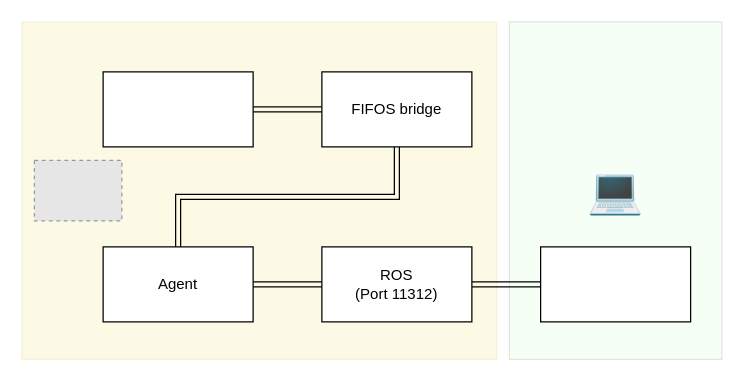
Some shapes in this 744 by 381 pixel diagram are drawn without their labels. Grey dashed boxes stand in for pictures. Here are the shapes that lost their labels. From the top down, the centre of each, then its label:
At (x=177, y=109): "ROS (Port 11311)".
At (x=615, y=284): "VNC".
